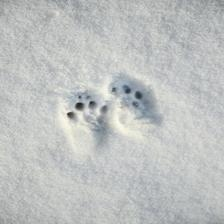cat: (66, 97, 110, 135)
